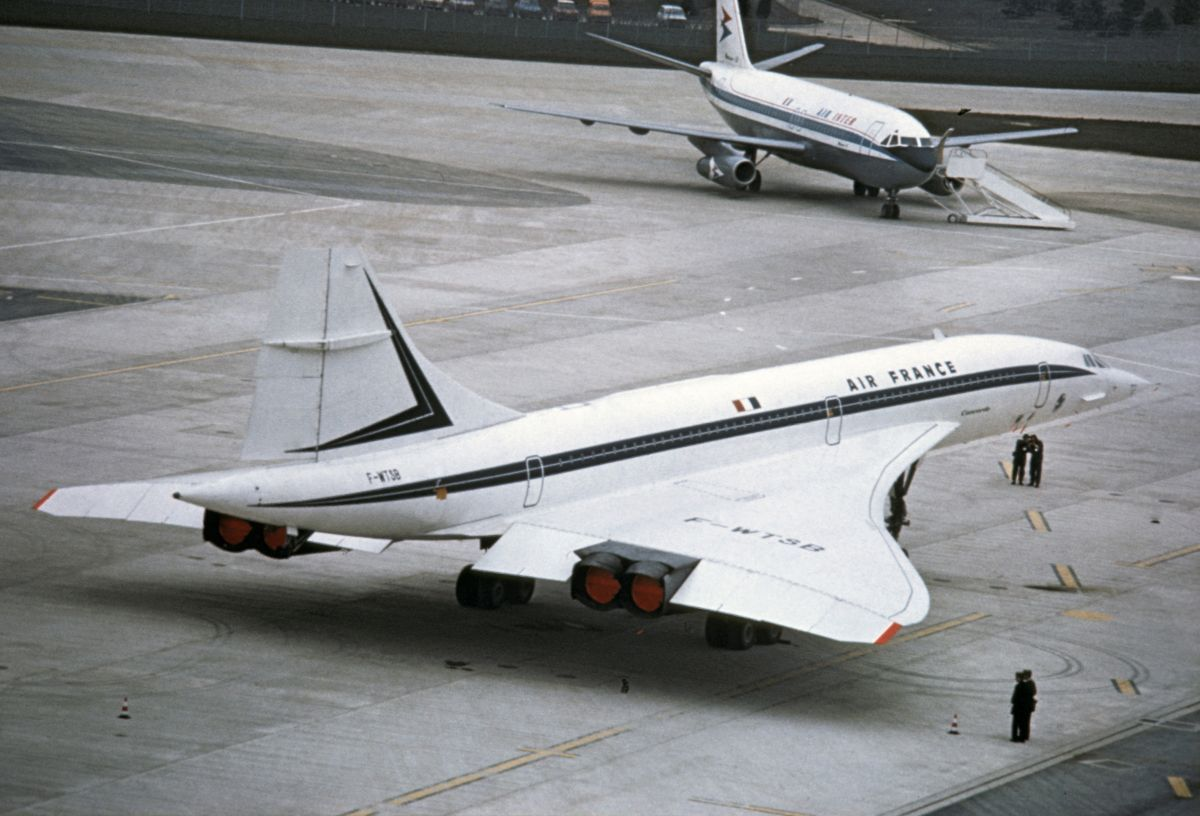Aeronef_commercial: (18, 219, 1158, 659), (474, 1, 1109, 235)
